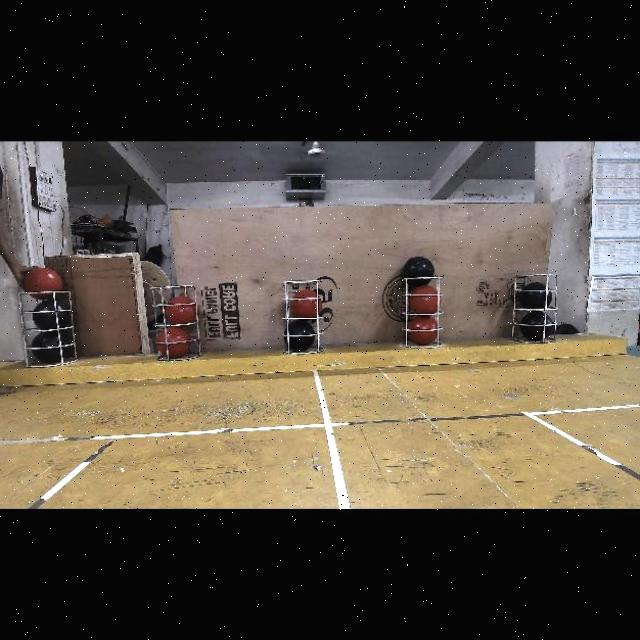P: (32, 332, 68, 362), (403, 256, 434, 287), (34, 301, 68, 329), (521, 313, 553, 341), (285, 323, 315, 351), (520, 286, 552, 310)
R: (156, 326, 188, 358), (165, 298, 197, 326), (406, 286, 438, 314), (406, 316, 436, 344), (288, 294, 318, 320)
S: (21, 288, 80, 368), (152, 282, 208, 360), (506, 268, 562, 340), (280, 273, 322, 351), (398, 269, 440, 345)
